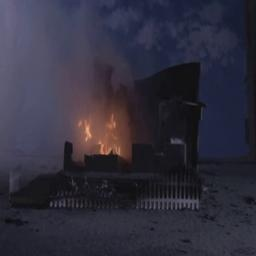fire: (76, 99, 134, 159)
smoke: (1, 0, 78, 101)
